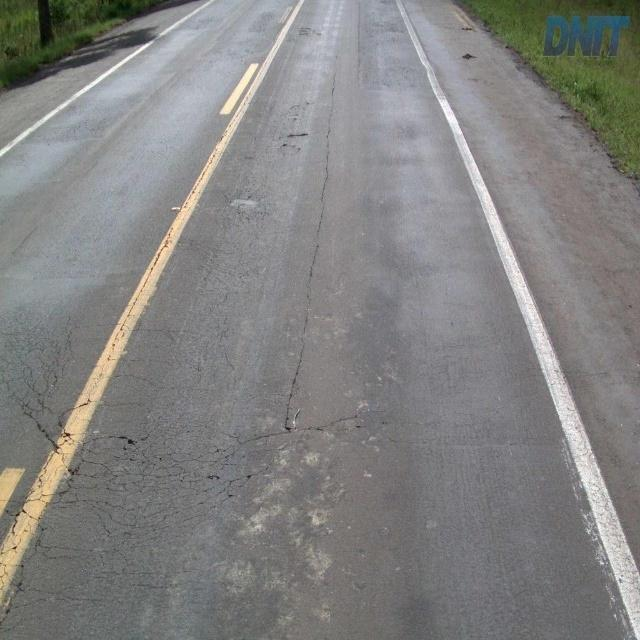pothole: (32, 412, 154, 517), (286, 128, 312, 143)
